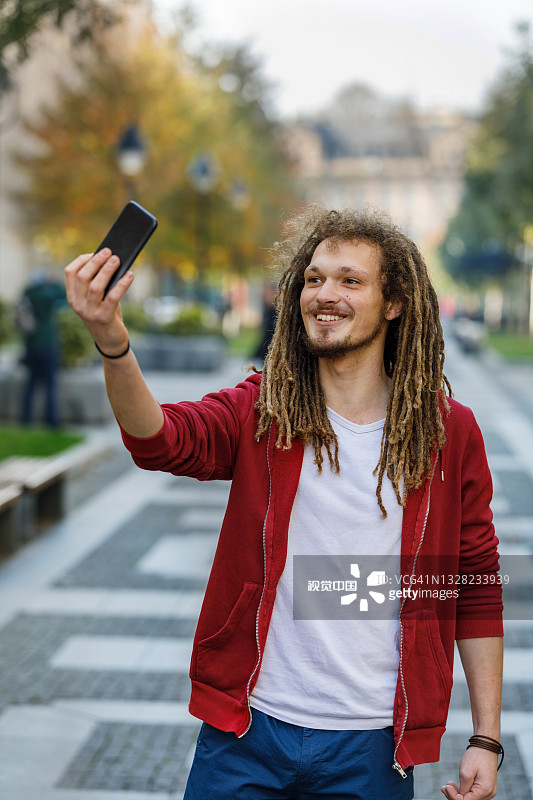no-phone: (431, 731, 520, 800)
taking photos: (45, 201, 152, 355)
